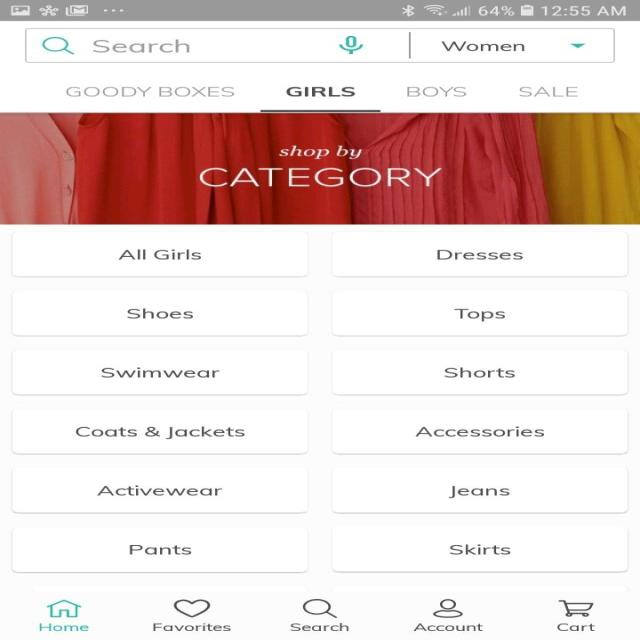EditText: (24, 28, 614, 63)
Icon: (302, 598, 338, 618), (46, 598, 82, 617), (173, 599, 211, 617), (557, 600, 594, 616), (431, 598, 462, 617), (42, 37, 74, 55), (338, 36, 364, 55), (569, 43, 585, 48)
Image: (0, 113, 639, 225)
Text: (198, 167, 442, 187), (66, 86, 234, 96), (92, 40, 190, 52), (278, 145, 362, 159), (441, 41, 524, 51), (286, 87, 356, 96), (153, 623, 231, 631), (412, 623, 482, 631), (406, 87, 466, 96), (518, 87, 577, 96), (290, 623, 348, 631), (39, 623, 89, 631), (556, 623, 594, 631)
TextButton: (10, 466, 308, 513), (10, 407, 308, 454), (10, 289, 308, 336), (331, 525, 628, 572), (331, 289, 628, 336), (11, 526, 310, 572), (10, 348, 308, 394), (331, 230, 628, 276), (331, 349, 628, 395), (331, 408, 628, 454), (331, 467, 628, 513), (12, 230, 308, 276)
